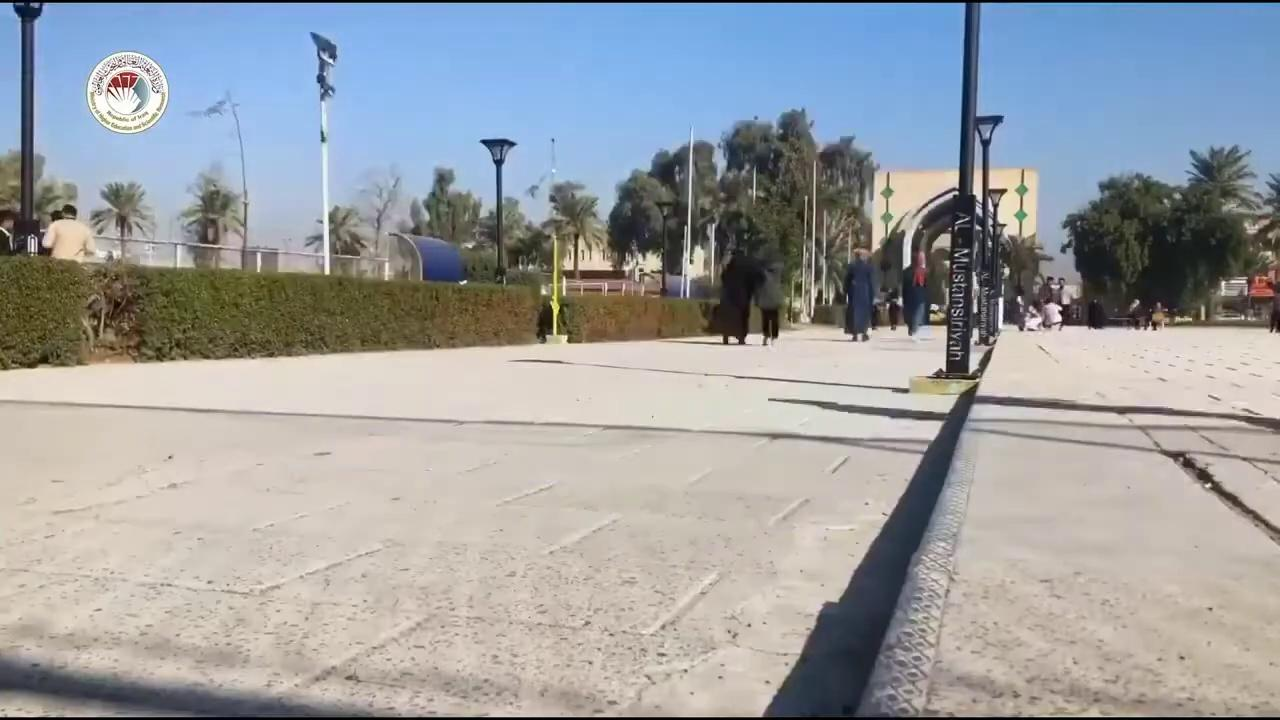person: (718, 250, 763, 345), (41, 204, 97, 262), (842, 247, 876, 342), (901, 247, 929, 341), (753, 265, 784, 346), (41, 209, 62, 256), (535, 300, 552, 343), (1267, 280, 1279, 334), (1126, 298, 1143, 330), (1149, 301, 1165, 330)
tree: (314, 102, 891, 324), (606, 106, 876, 324), (1059, 142, 1275, 322), (1061, 170, 1179, 315), (1164, 142, 1260, 320), (348, 172, 421, 276), (606, 168, 664, 282), (177, 170, 244, 268), (718, 116, 784, 204), (88, 179, 155, 261), (550, 189, 605, 280), (421, 166, 481, 248), (538, 215, 571, 335), (476, 195, 525, 273), (998, 230, 1053, 296), (304, 203, 367, 257), (0, 147, 45, 216), (1255, 171, 1279, 259), (508, 220, 548, 271), (33, 178, 77, 220), (925, 246, 950, 310)
